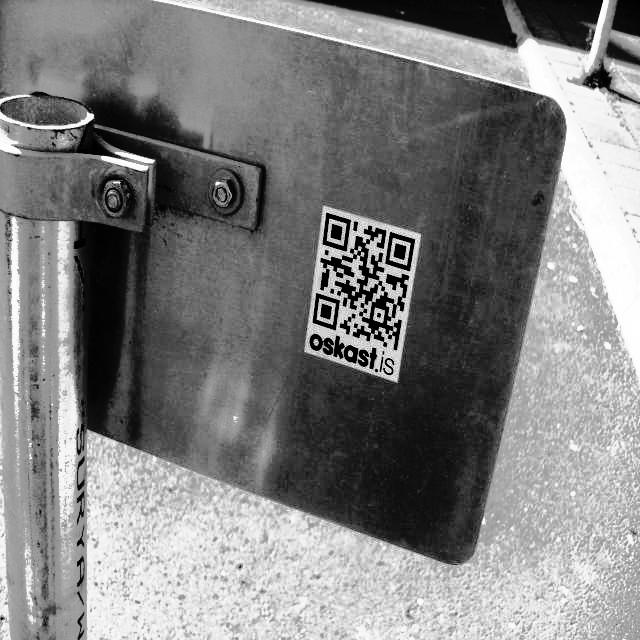qr_code: (312, 213, 415, 351)
